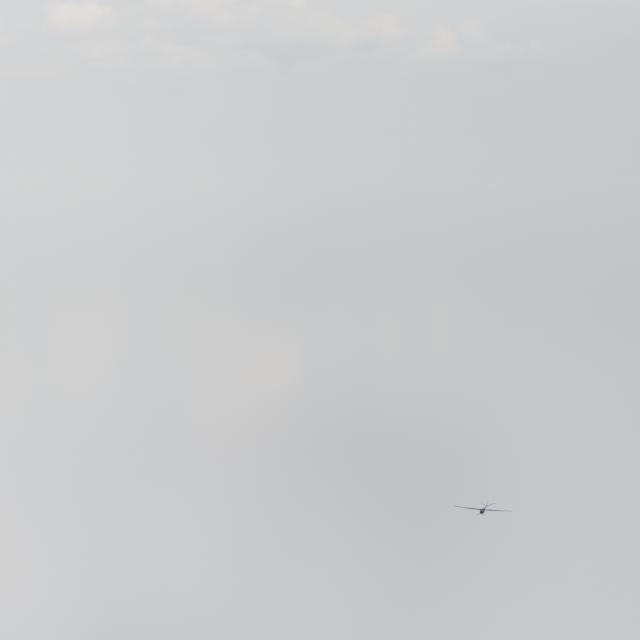Airaplan: (453, 500, 512, 515)
